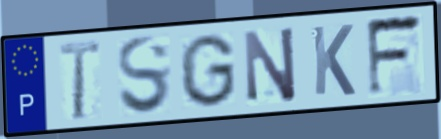F: (364, 11, 427, 100)
G: (177, 32, 239, 110)
K: (309, 22, 358, 98)
N: (241, 23, 299, 104)
S: (115, 33, 174, 118)
T: (56, 38, 103, 123)
